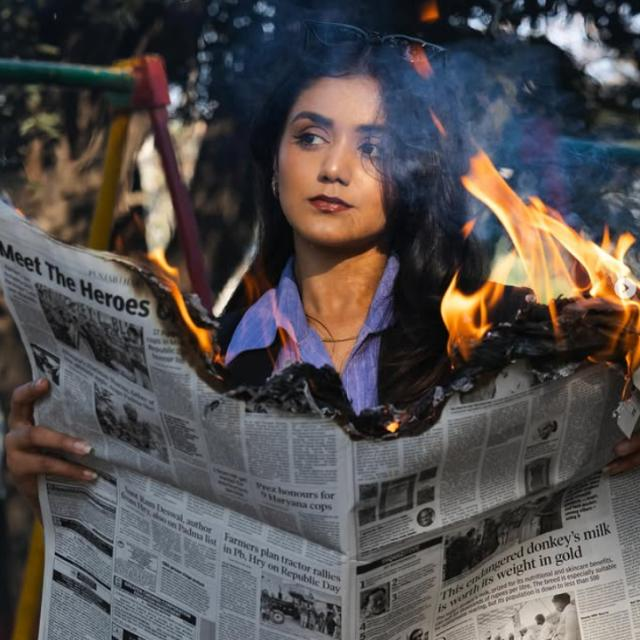fire: (461, 148, 581, 351), (581, 224, 640, 408), (146, 249, 226, 378), (442, 272, 502, 368)
